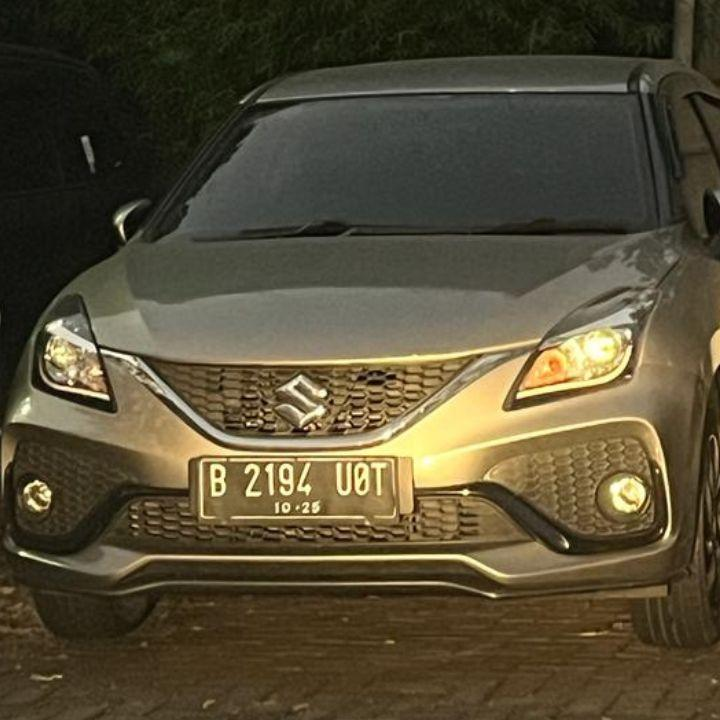plat: (199, 460, 397, 521)
